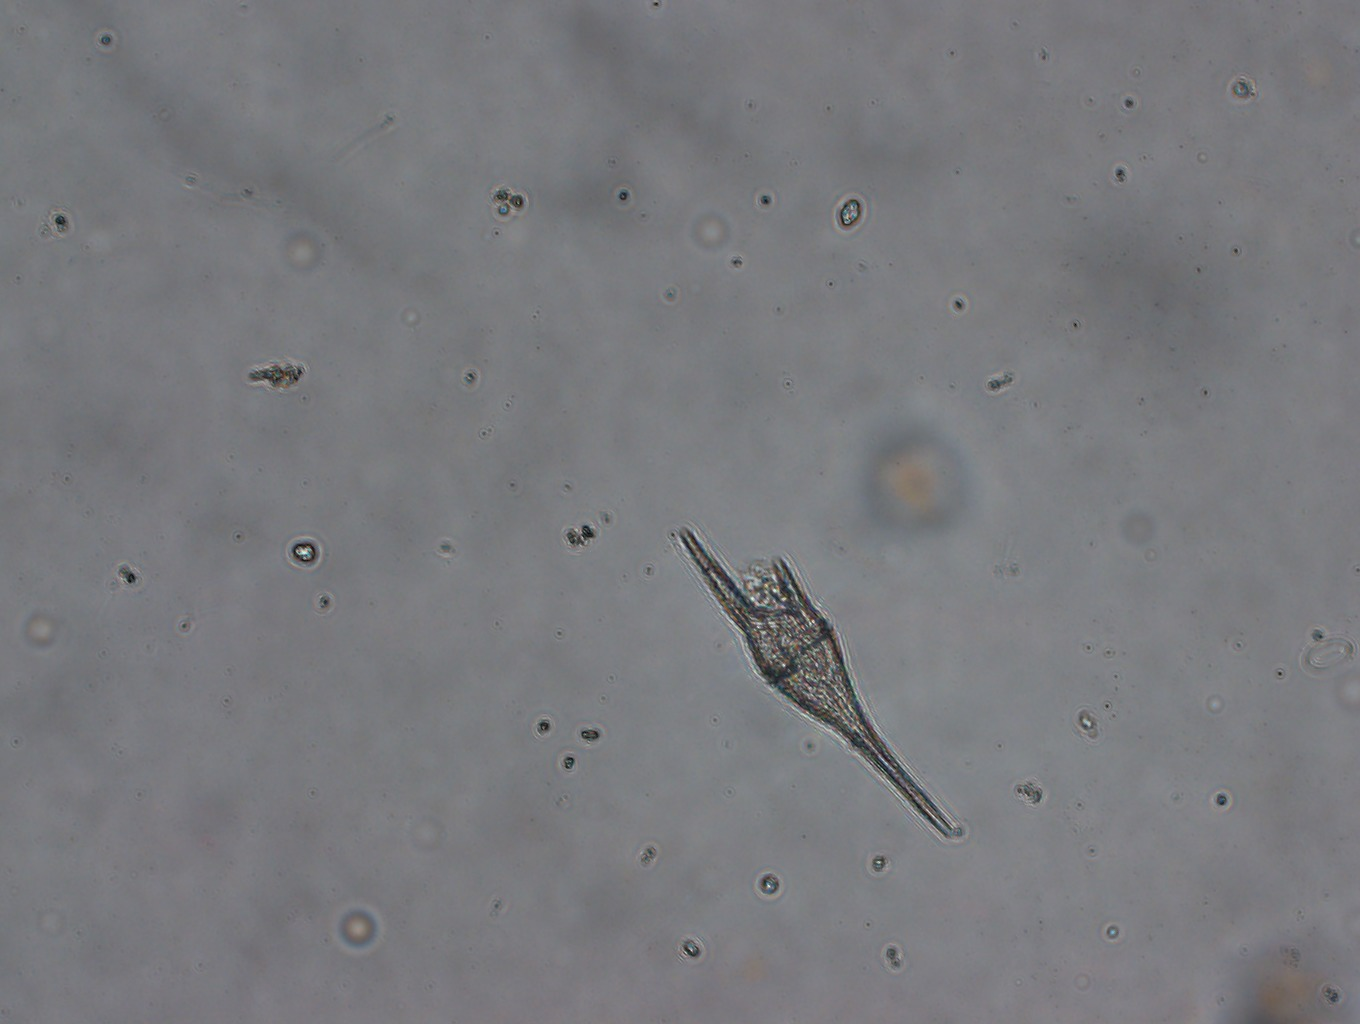ceratium furca: (675, 520, 957, 839)
